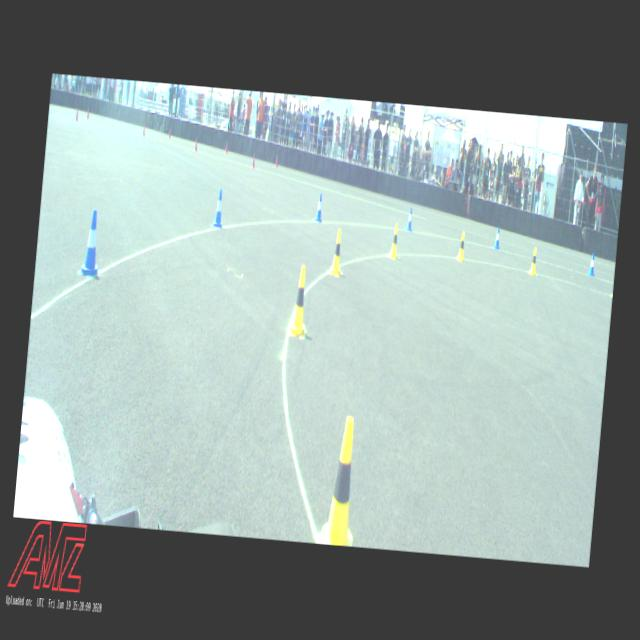blue_cone: (81, 208, 103, 274), (212, 187, 225, 228), (315, 192, 324, 222), (405, 206, 413, 231), (588, 252, 596, 276), (493, 226, 501, 249)
yellow_cone: (320, 414, 364, 546), (290, 263, 310, 334), (329, 227, 344, 274), (388, 222, 399, 258), (456, 230, 466, 261), (528, 247, 538, 274)
